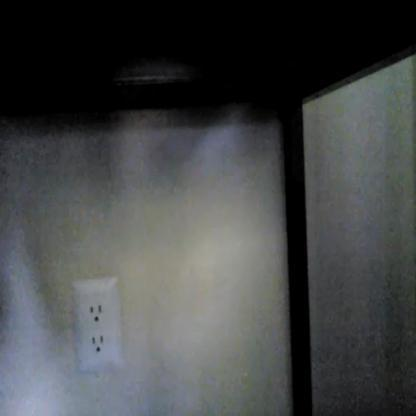OUTLET: (71, 274, 123, 372)
